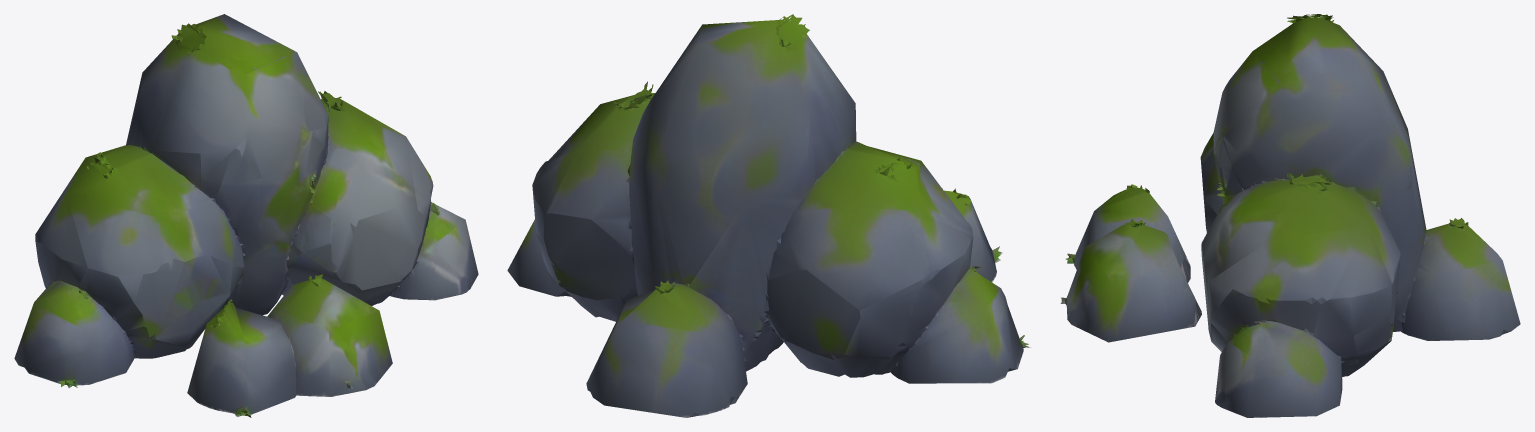
The model's file is mossy-rock.glb.
3 views of the same model, side by side, from view 1: azimuth 30°, elevation 25°; view 2: azimuth 150°, elevation 25°; view 3: azimuth 270°, elevation 25° (orthographic). The views are drawn at different scales.
Parts seen in each view (by area): view 1: Rodin_mossyrock; view 2: Rodin_mossyrock; view 3: Rodin_mossyrock.
Part boxes in pixels (<box>): Rodin_mossyrock: <box>14,14,478,417</box>; Rodin_mossyrock: <box>507,14,1029,417</box>; Rodin_mossyrock: <box>1060,14,1520,417</box>.
Size of the model in its own units: 1.88 by 1.16 by 1.71.
Materials: 1 (1 with a texture image).
